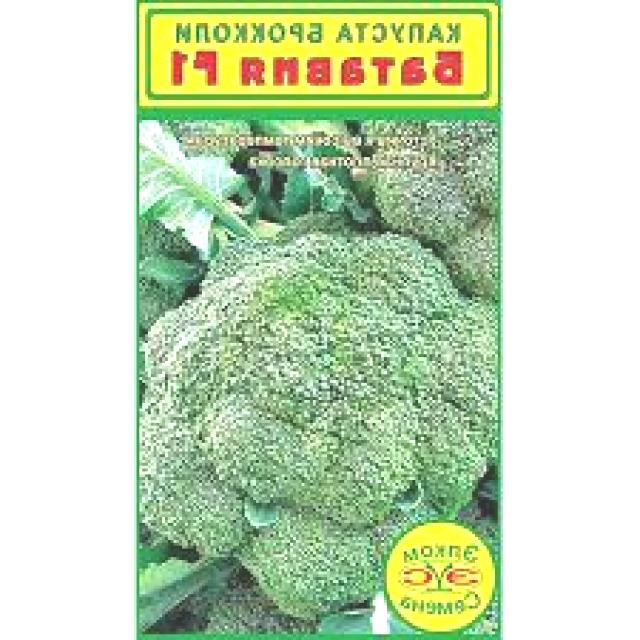broccoli: (143, 208, 498, 640), (363, 106, 526, 292)
